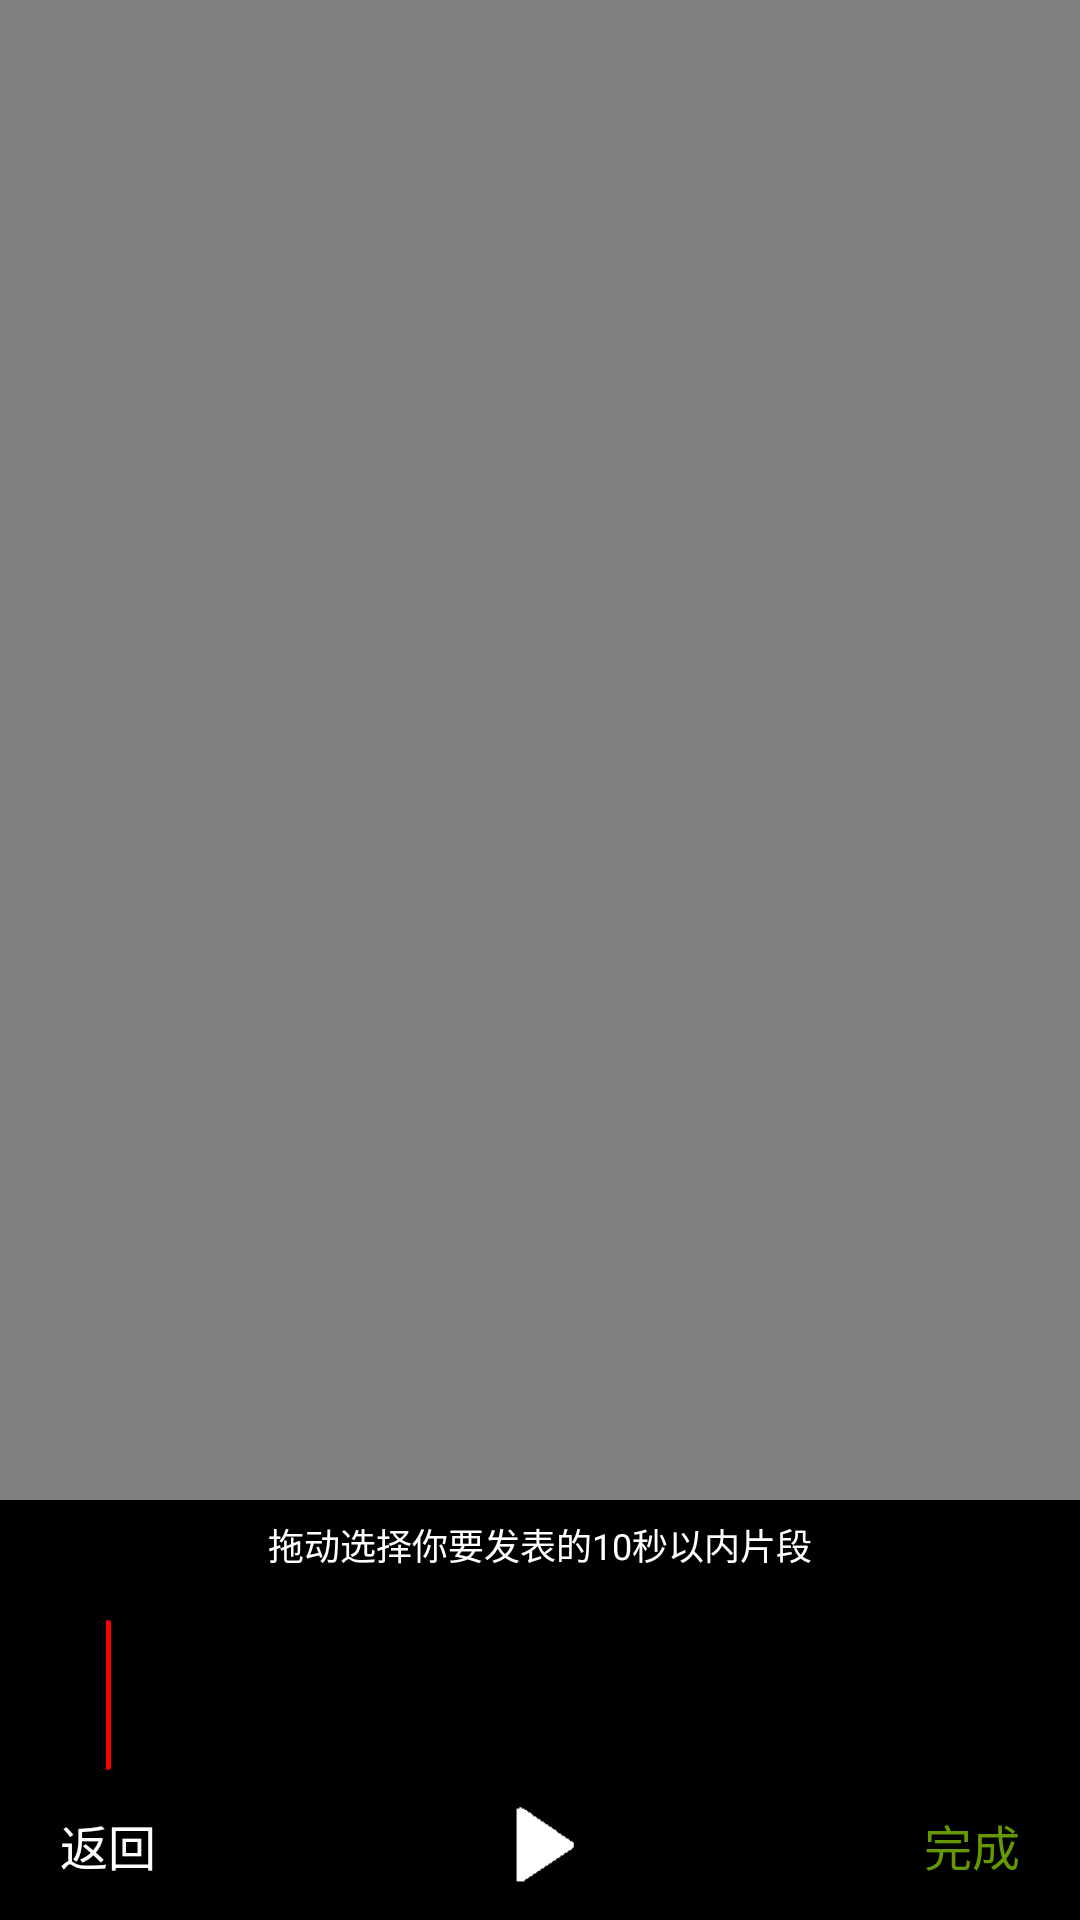

Icon bounding boxes for this 1080*1920 phone screenshot, format bbox=(x1, y1, x2, y2):
video play: bbox=(516, 1807, 574, 1882)
